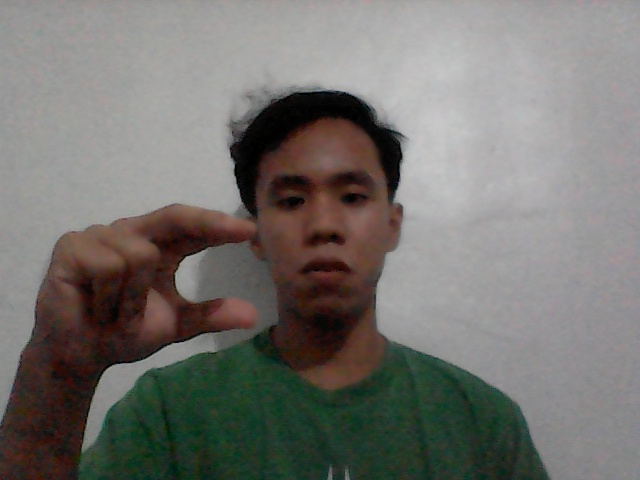No: (27, 166, 274, 414)
